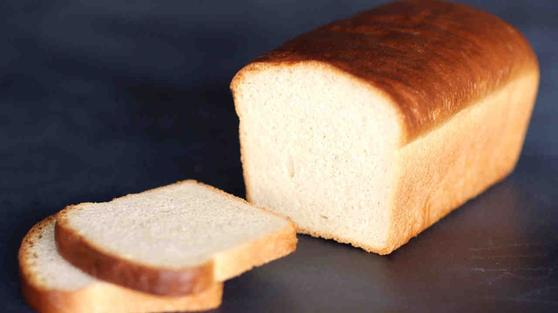white_bread: (235, 2, 532, 259)
